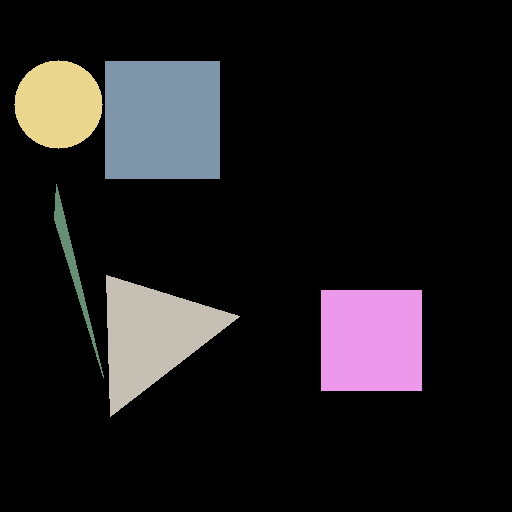circle: (14, 60, 102, 148)
square: (105, 61, 219, 178), (321, 290, 421, 390)
triangle: (106, 275, 239, 416), (54, 184, 103, 377)
